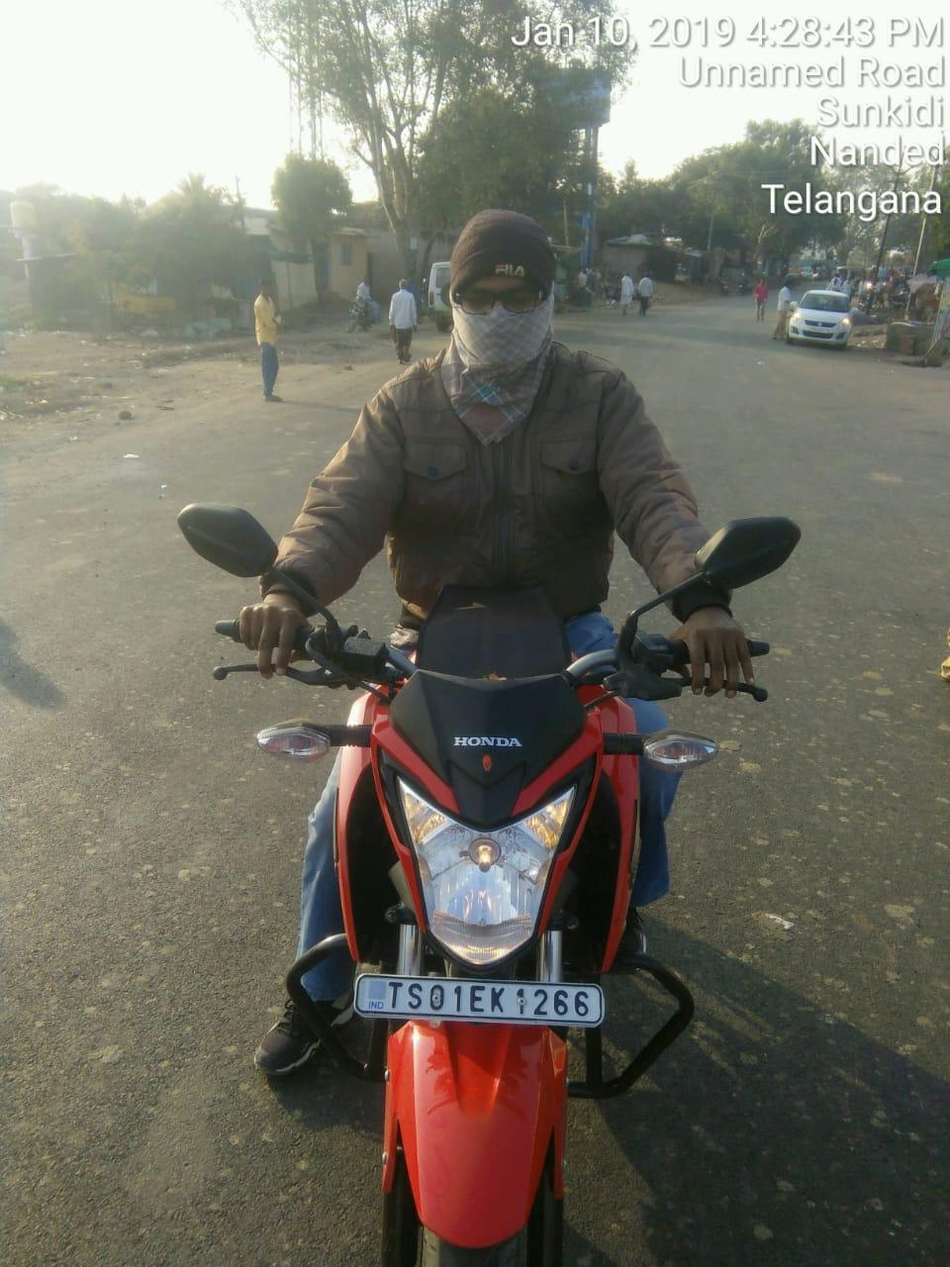plate: (344, 968, 617, 1042)
